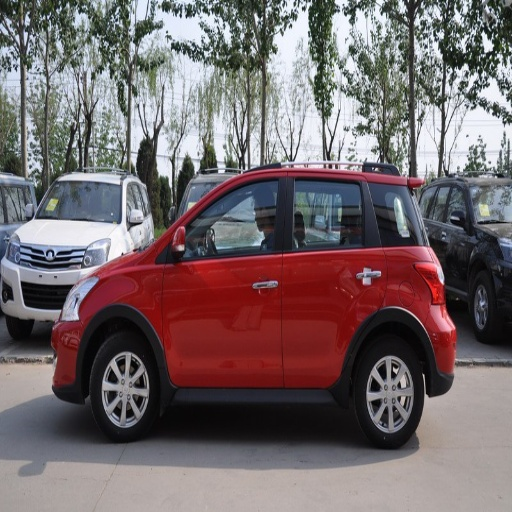back_left_door: (283, 172, 386, 385)
front_bumper: (3, 246, 80, 319)
front_glass: (33, 181, 121, 220)
front_left_door: (162, 173, 289, 382)
